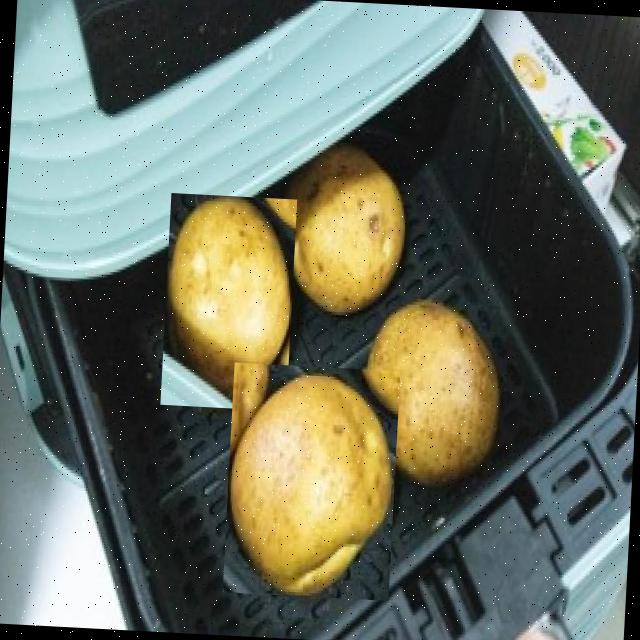Potato: (222, 362, 400, 600), (160, 192, 296, 410), (356, 290, 505, 482), (282, 132, 410, 318)
